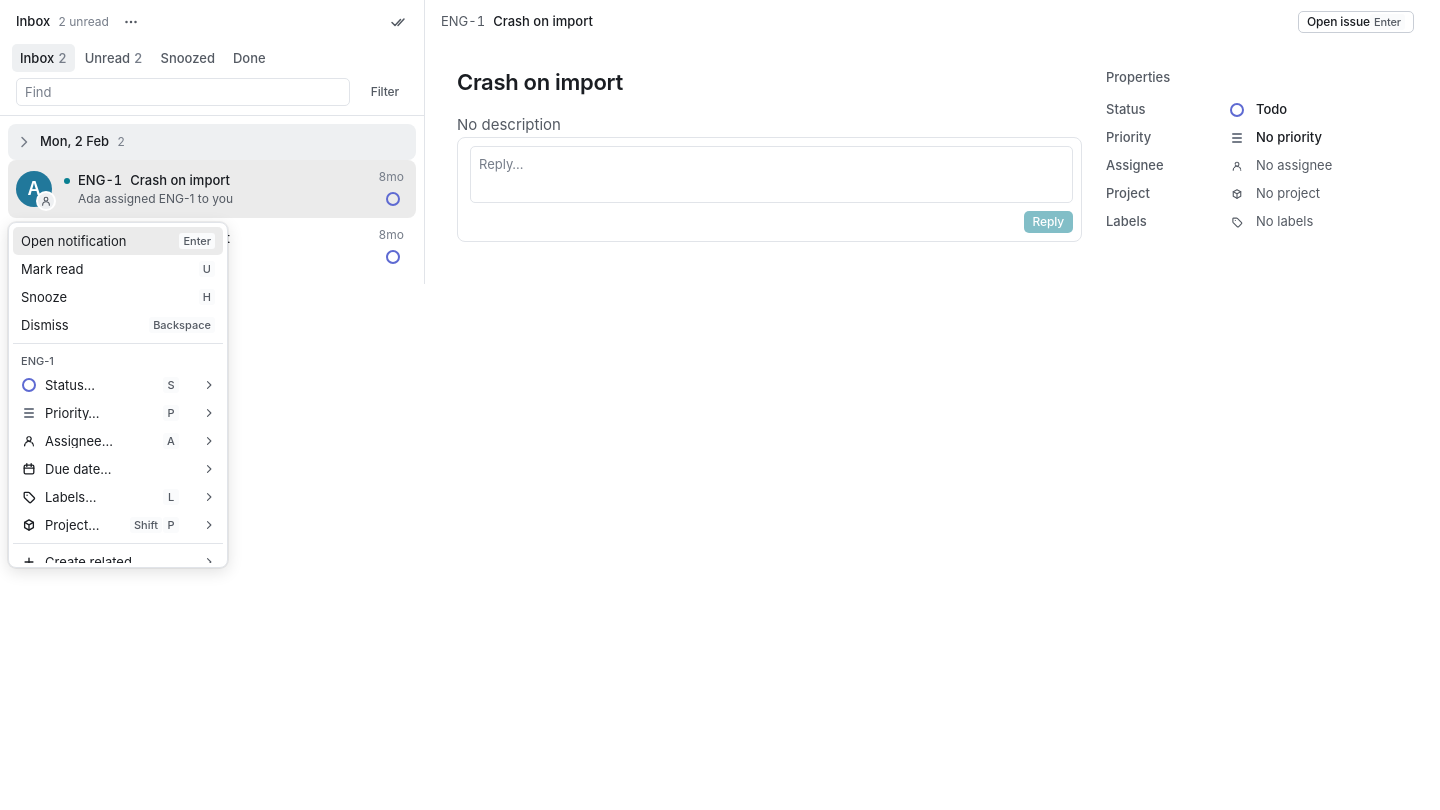
Scenario: Inbox › opens a contextual menu on the row, with the issue’s own properties in it
Expected: the text "Mark read" is shown, x1=21 y1=260 x2=84 y2=276
Expected: the text "Snooze" is shown, x1=21 y1=288 x2=67 y2=304
Click the menu item "Status… S" at (70, 384), box x1=21 y1=376 x2=215 y2=393
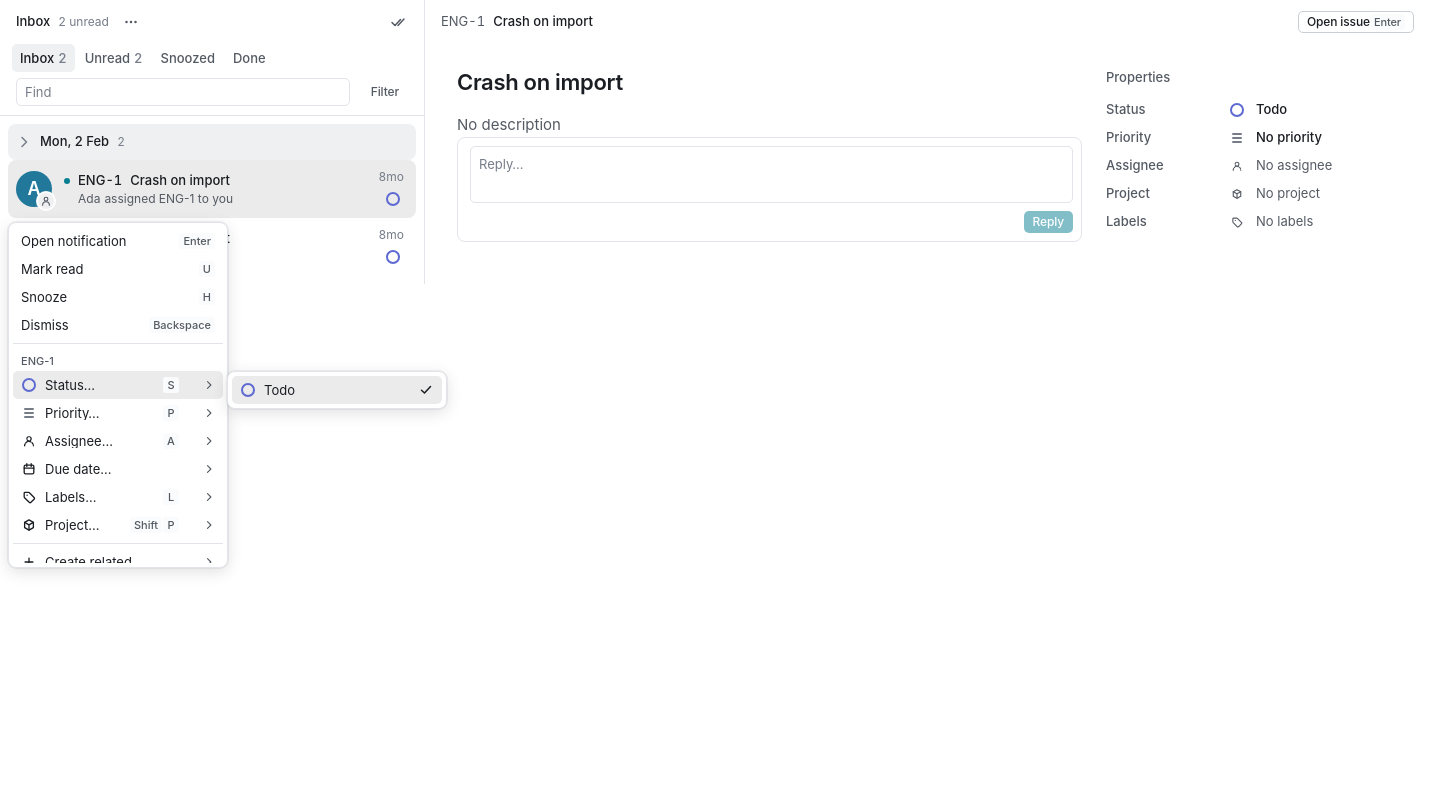
Now the menu named "Status" is shown, box x1=232 y1=376 x2=442 y2=404
